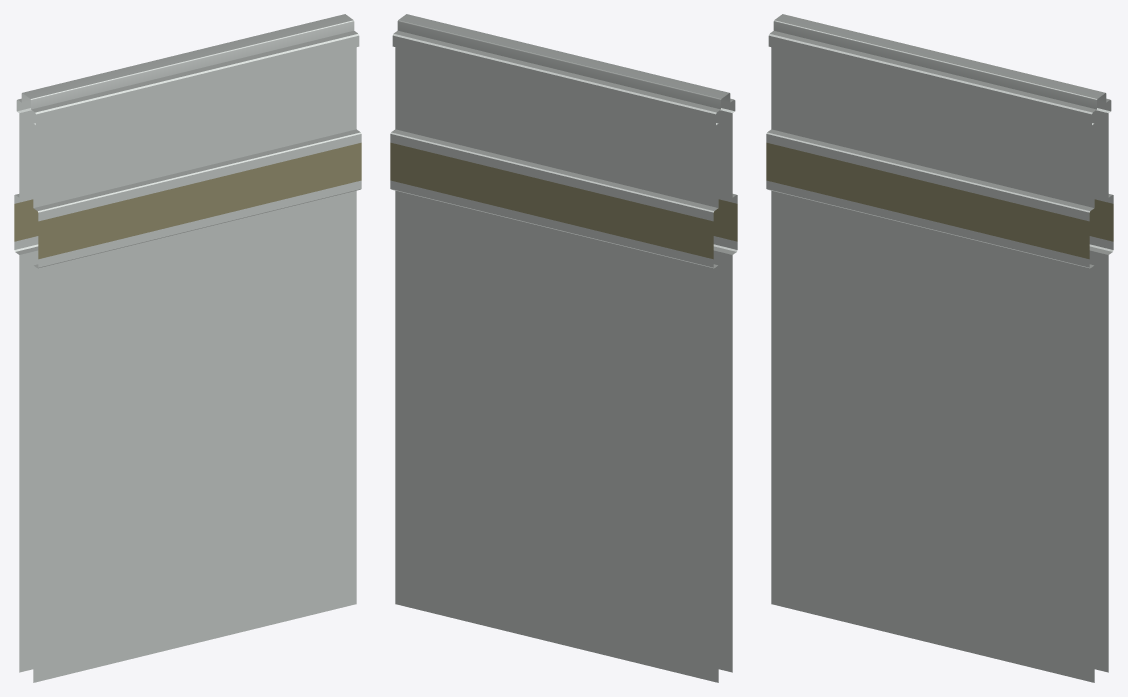
The picture shows the model from 3 angles, left to right: view 1: azimuth 30°, elevation 25°; view 2: azimuth 150°, elevation 25°; view 3: azimuth 330°, elevation 25°; orthographic projection.
Parts seen in each view (by area): view 1: G:\FFXIV-MapTools\exports\r2f1\bg\ex1\01_roc_r2\fld\r2f1\bgp (×5); view 2: G:\FFXIV-MapTools\exports\r2f1\bg\ex1\01_roc_r2\fld\r2f1\bgp (×5); view 3: G:\FFXIV-MapTools\exports\r2f1\bg\ex1\01_roc_r2\fld\r2f1\bgp (×5).
Boxes of the visible parts, box(x1,y1,x2,y2) form: G:\FFXIV-MapTools\exports\r2f1\bg\ex1\01_roc_r2\fld\r2f1\bgp (×5): box(14, 14, 361, 682); G:\FFXIV-MapTools\exports\r2f1\bg\ex1\01_roc_r2\fld\r2f1\bgp (×5): box(390, 14, 737, 682); G:\FFXIV-MapTools\exports\r2f1\bg\ex1\01_roc_r2\fld\r2f1\bgp (×5): box(766, 14, 1113, 682).
Bounding box in the file's own units: 12 × 20.64 × 1.54.
